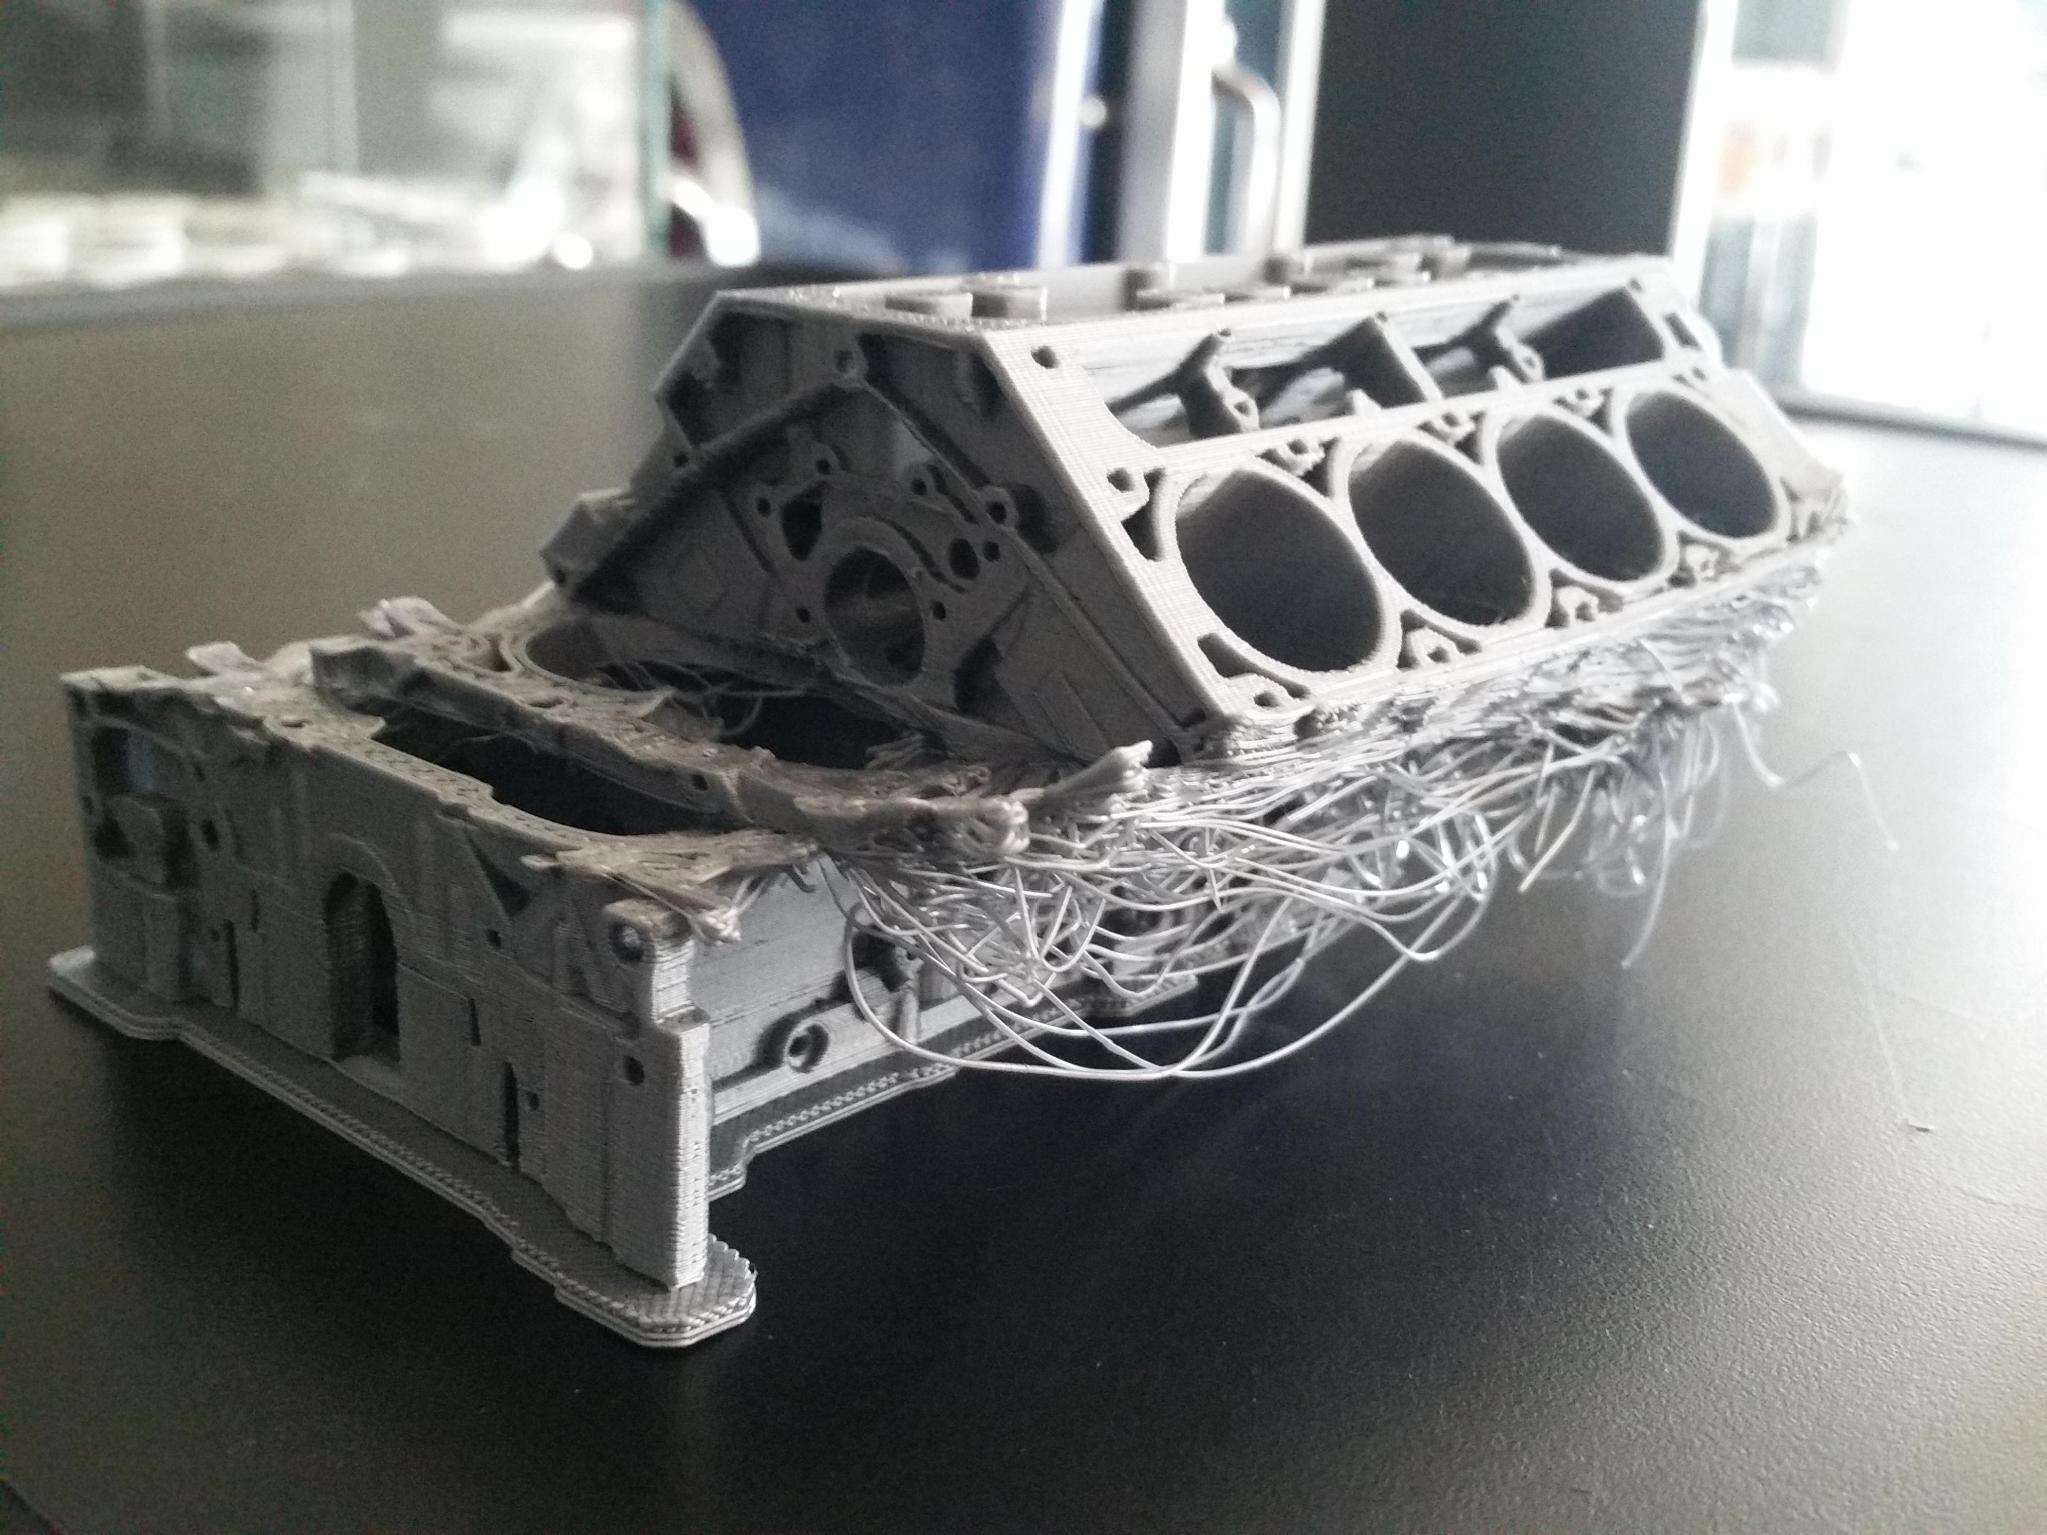Printing-Artifact: (896, 511, 1873, 1095)
